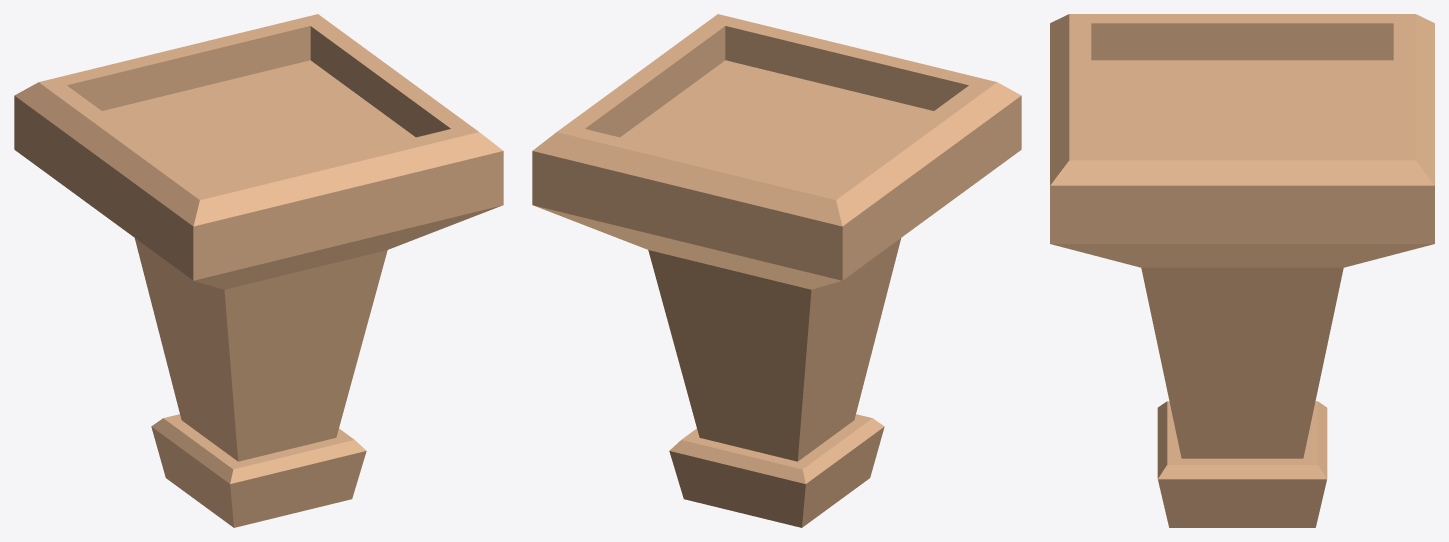
File: Torch.glb
The picture shows the model from 3 angles, left to right: view 1: azimuth 30°, elevation 25°; view 2: azimuth 150°, elevation 25°; view 3: azimuth 270°, elevation 25°; orthographic projection. The views are drawn at different scales.
Parts seen in each view (by area): view 1: Torch; view 2: Torch; view 3: Torch.
Boxes of the visible parts, x1,y1,x2,y2 form: Torch: [14, 14, 503, 527]; Torch: [532, 14, 1021, 527]; Torch: [1050, 14, 1434, 527].
Bounding box in the file's own units: 7.5 × 8.81 × 7.5.
